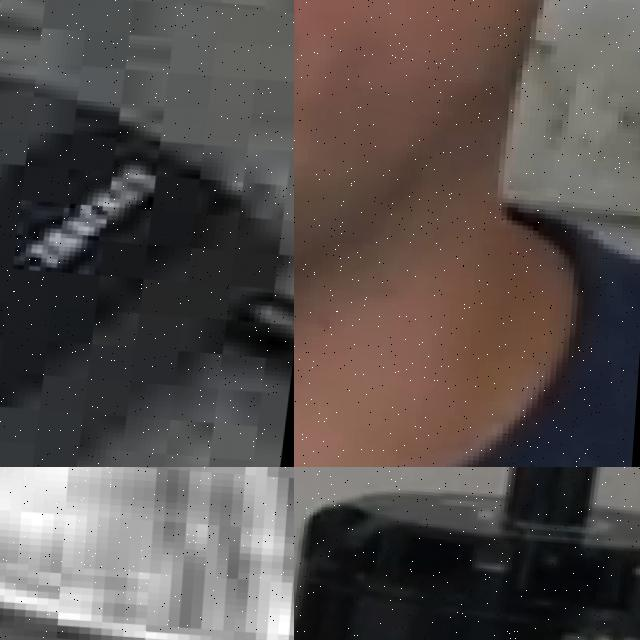0: (0, 0, 294, 467)
drone: (294, 467, 640, 640)
